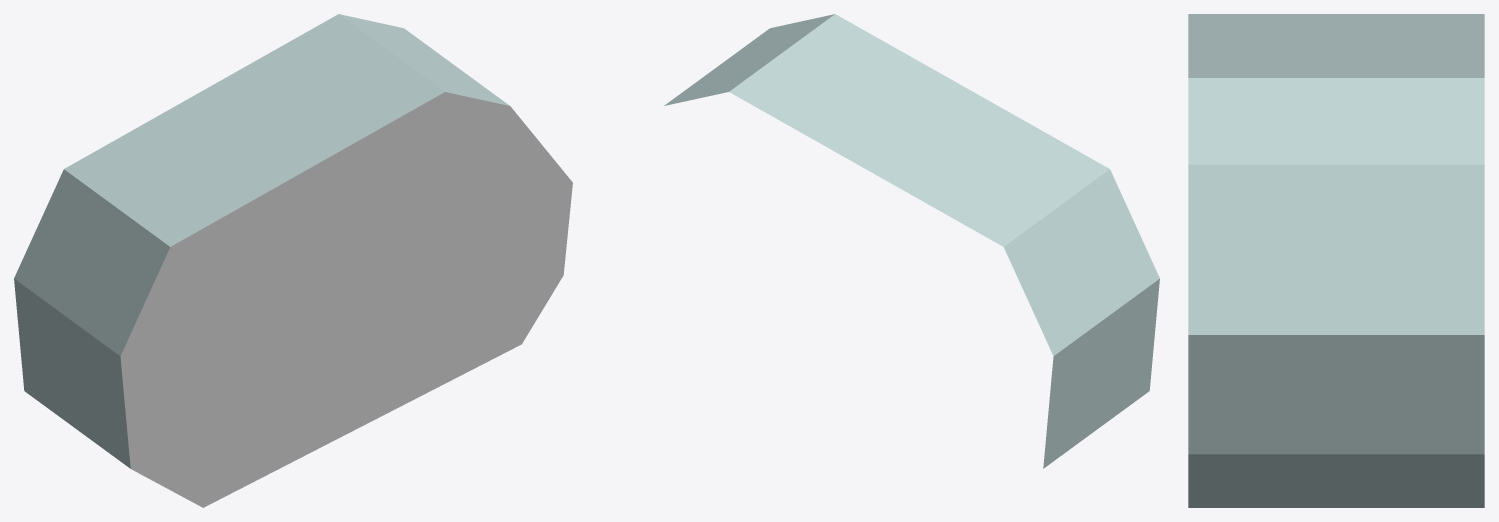
3 renders of one model, left to right at view 1: azimuth 30°, elevation 25°; view 2: azimuth 150°, elevation 25°; view 3: azimuth 270°, elevation 25°, orthographic. The views are drawn at different scales.
Visible parts, largest first — view 1: 0_2_2_3_1_1_2_0_1; view 2: 0_2_2_3_1_1_2_0_1; view 3: 0_2_2_3_1_1_2_0_1.
Part boxes in pixels (x1,y1,x2,y2): 0_2_2_3_1_1_2_0_1: (14, 14, 572, 507); 0_2_2_3_1_1_2_0_1: (664, 14, 1159, 468); 0_2_2_3_1_1_2_0_1: (1188, 14, 1484, 507).
Size of the model in its own units: 7.36 by 5.55 by 3.
